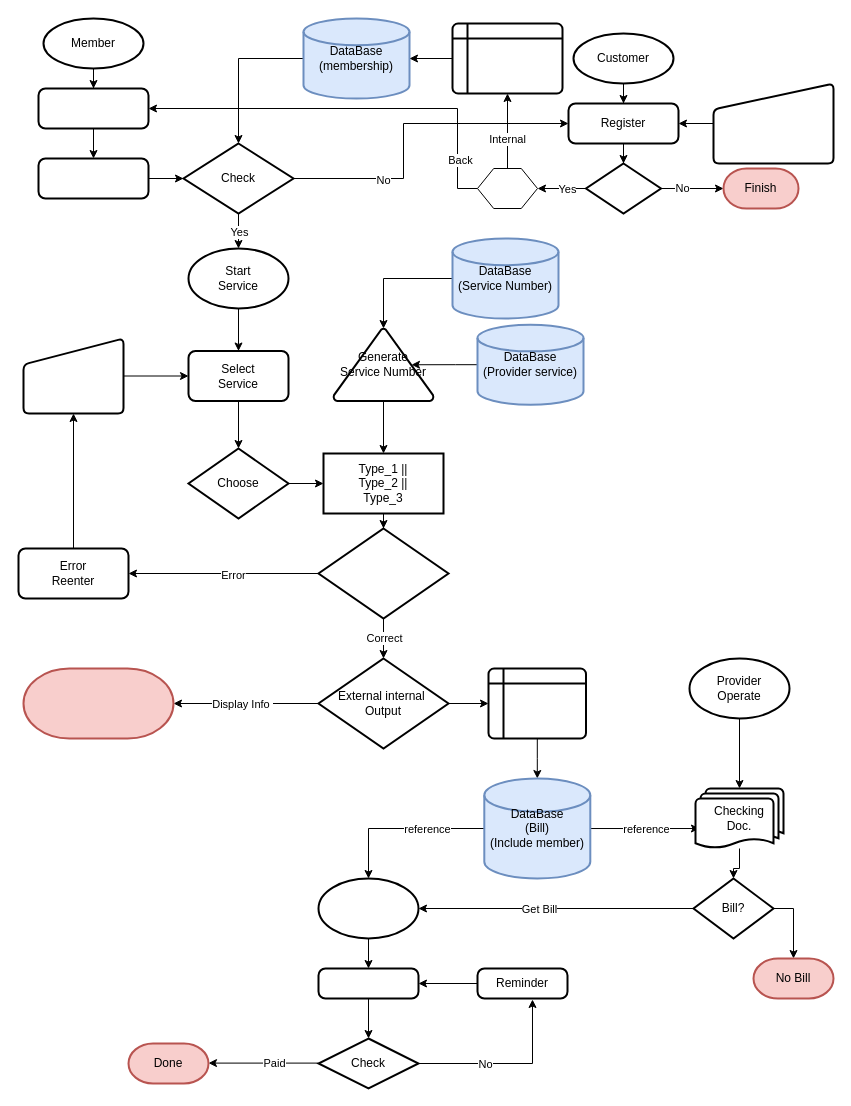
The diagram is 851 pixels wide and 1106 high, and some of its shapes have lost their labels. Each missing label, with the centre of its shape:
"Check Info." goes at [383,573].
"Create member_info" goes at [507,58].
"Email Phone Number Birthday" goes at [773,123].
"Enter Date MM-DD-YYYY" goes at [73,375].
"Generate Bill" goes at [368,908].
"Log in" goes at [93,108].
"Membership Number" goes at [93,178].
"Pay Done" goes at [623,188].
"Present info to members" goes at [98,703].
"Send Email" goes at [368,983].
"Update info." goes at [536,703].
